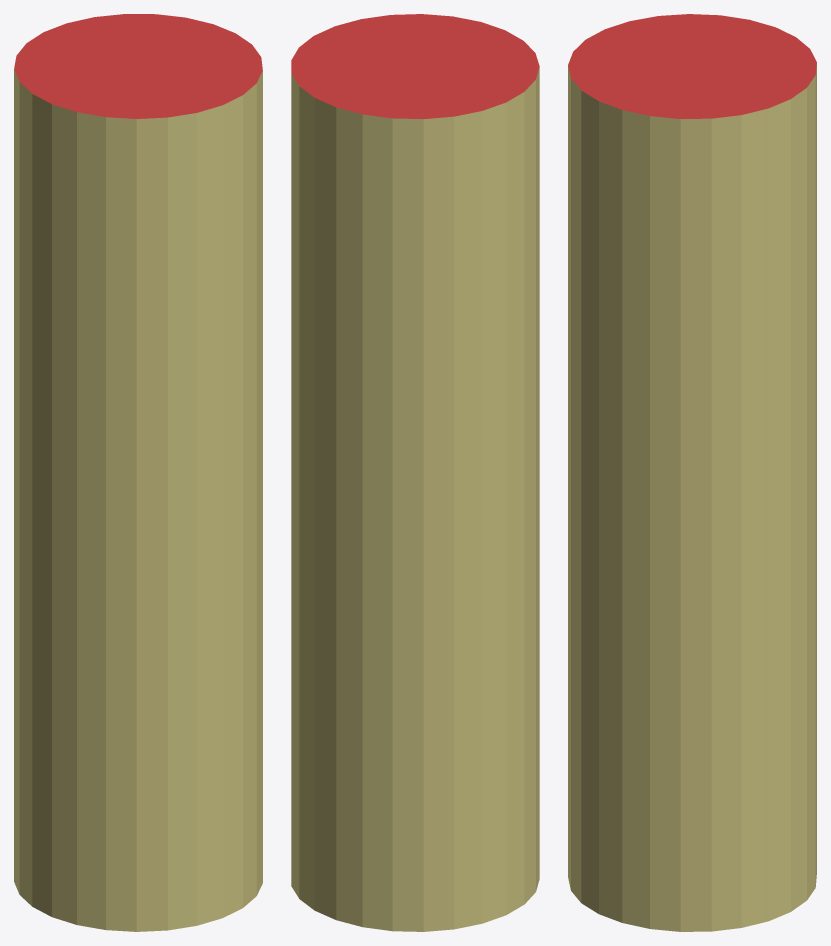
3 views of the same model, side by side, from view 1: azimuth 30°, elevation 25°; view 2: azimuth 150°, elevation 25°; view 3: azimuth 270°, elevation 25° (orthographic).
Bounding box in the file's own units: 3.88 × 3.88 × 13.99.
